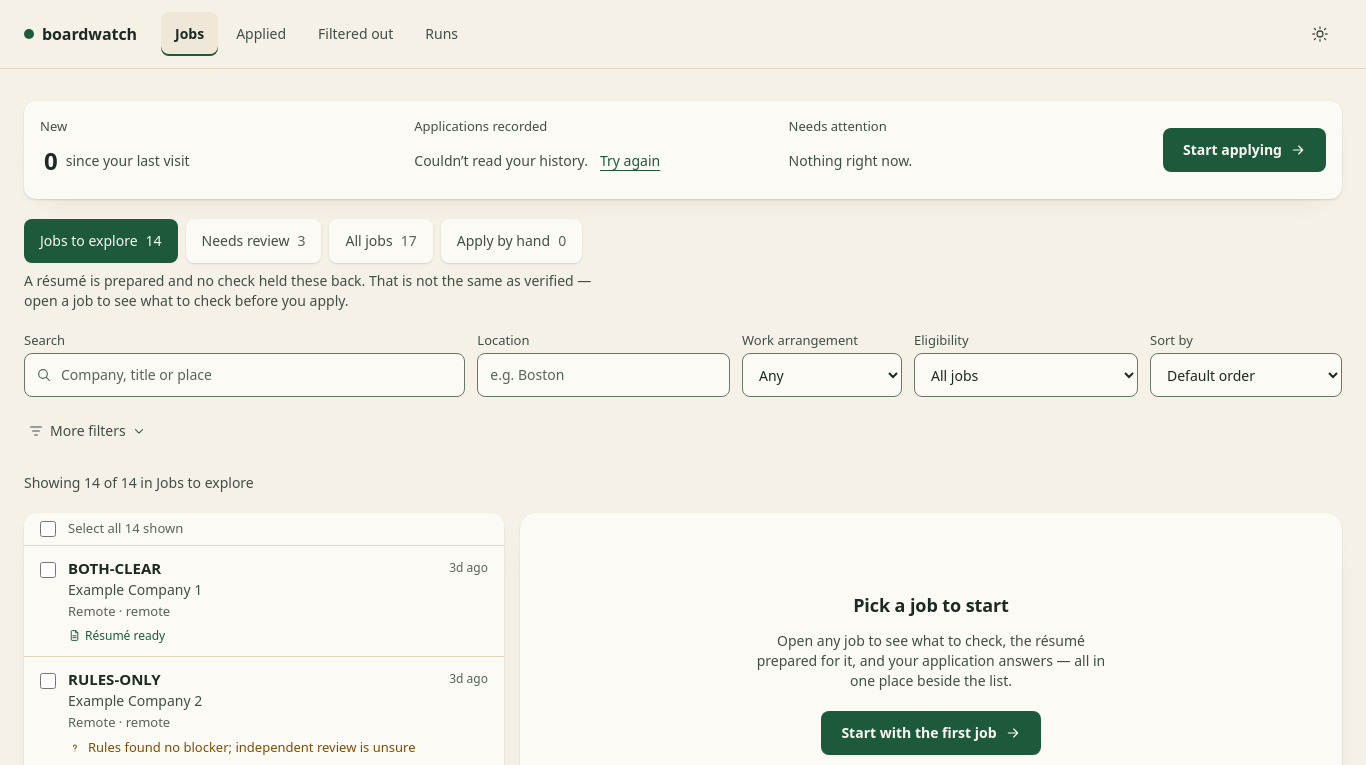
Scenario: the apply-first filter › requires both affirmative verdicts and no known warnings, and composes with search
This screenshot has width=1366, height=765.
Click the button "All jobs 17" at (381, 241), box [329,219,433,263]
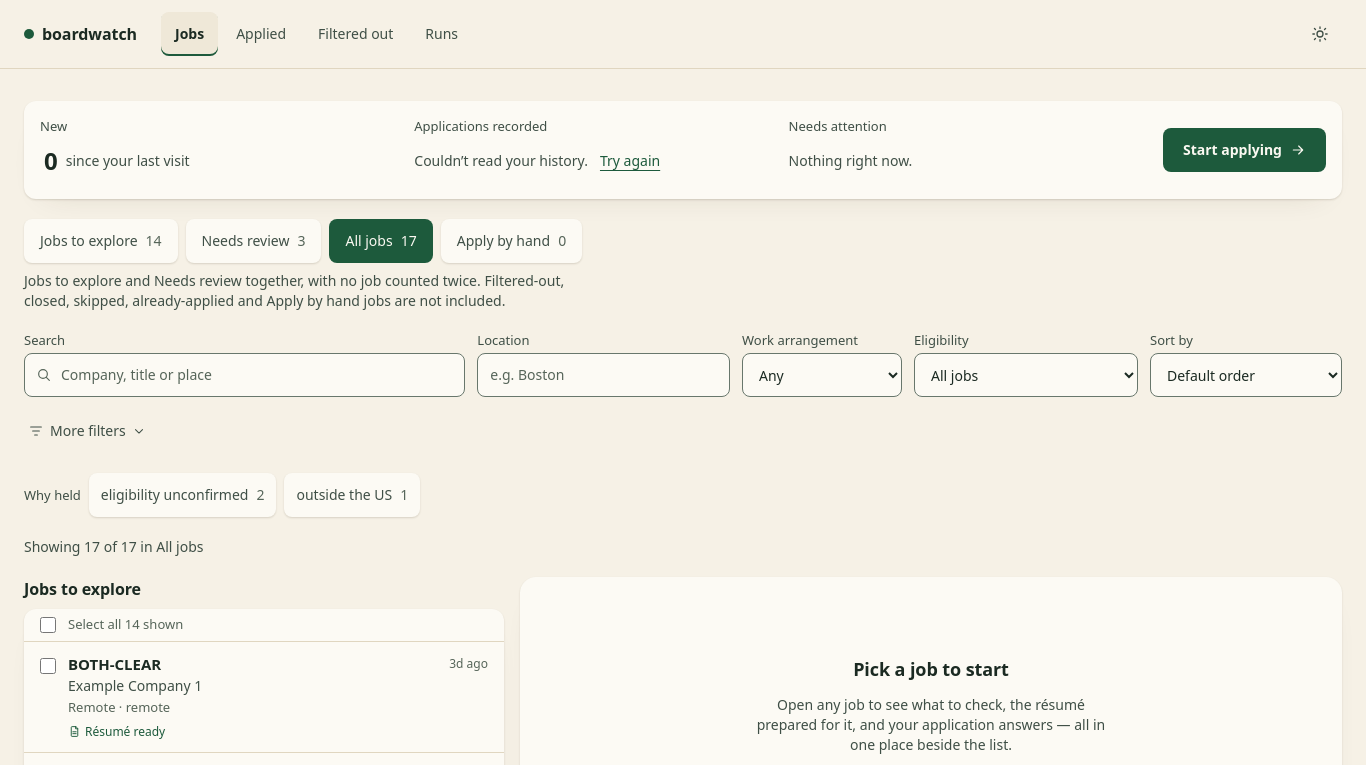
Select "Apply first" in the dropdown labelled "Eligibility" at (1026, 375), box [914,353,1138,397]
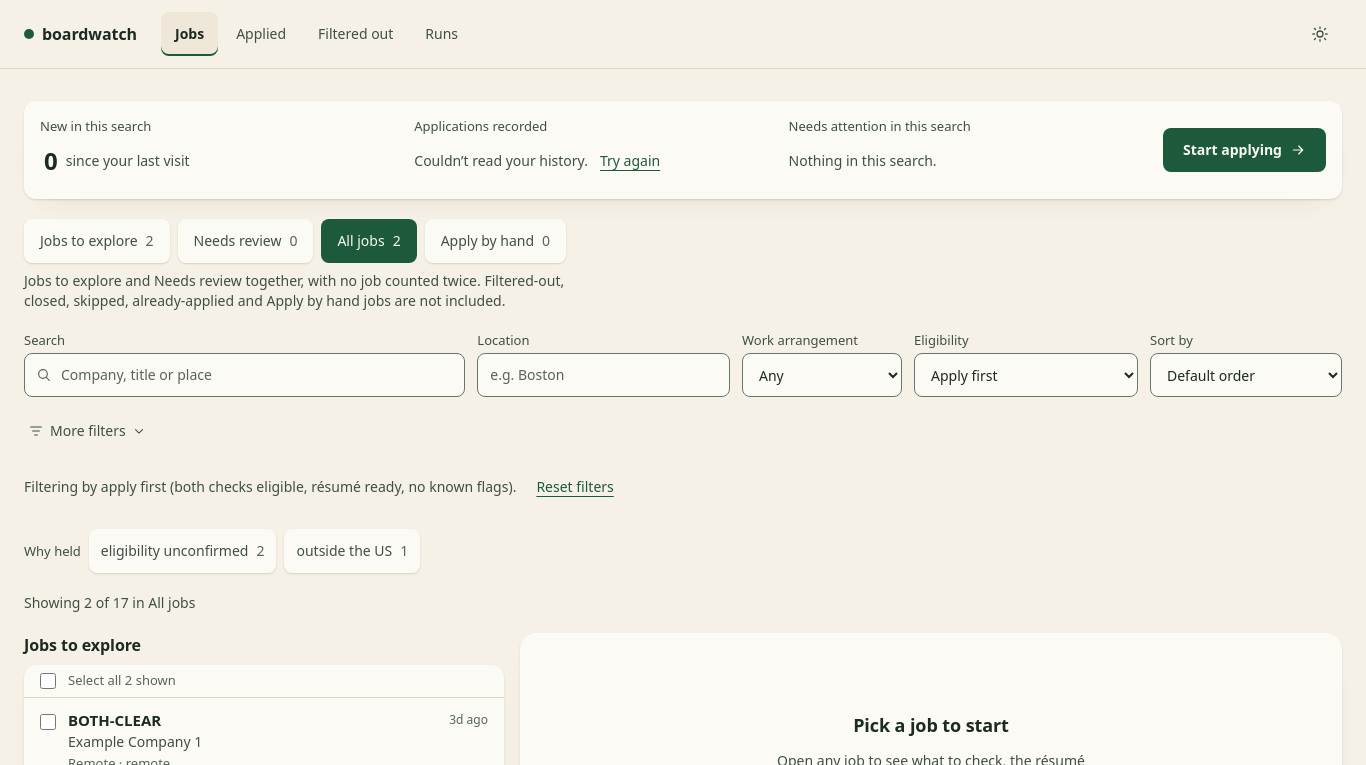
Expected: the text "BOTH-CLEAR" is shown, [68,710,161,730]
Expected: the button "All jobs 2" is shown, [321,219,417,263]
Expected: the text "Filtering by apply first (both checks eligible, résumé ready, no known flags)." is shown, [24,477,516,497]
Type "Another Company" into the search field labelled "Search" at (245, 375), box [24,353,465,397]
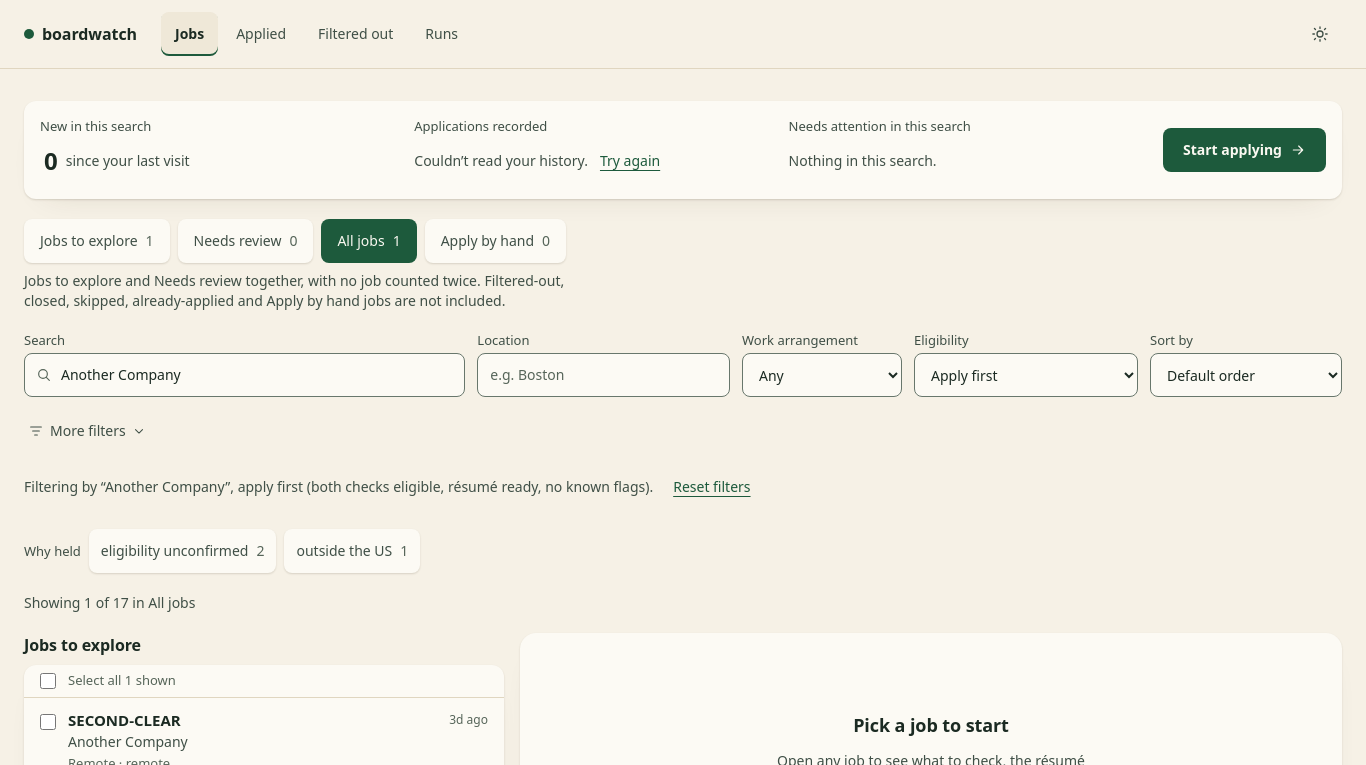
Expected: the text "SECOND-CLEAR" is shown, [68,710,181,730]
Expected: the button "BOTH-CLEAR" is gone
